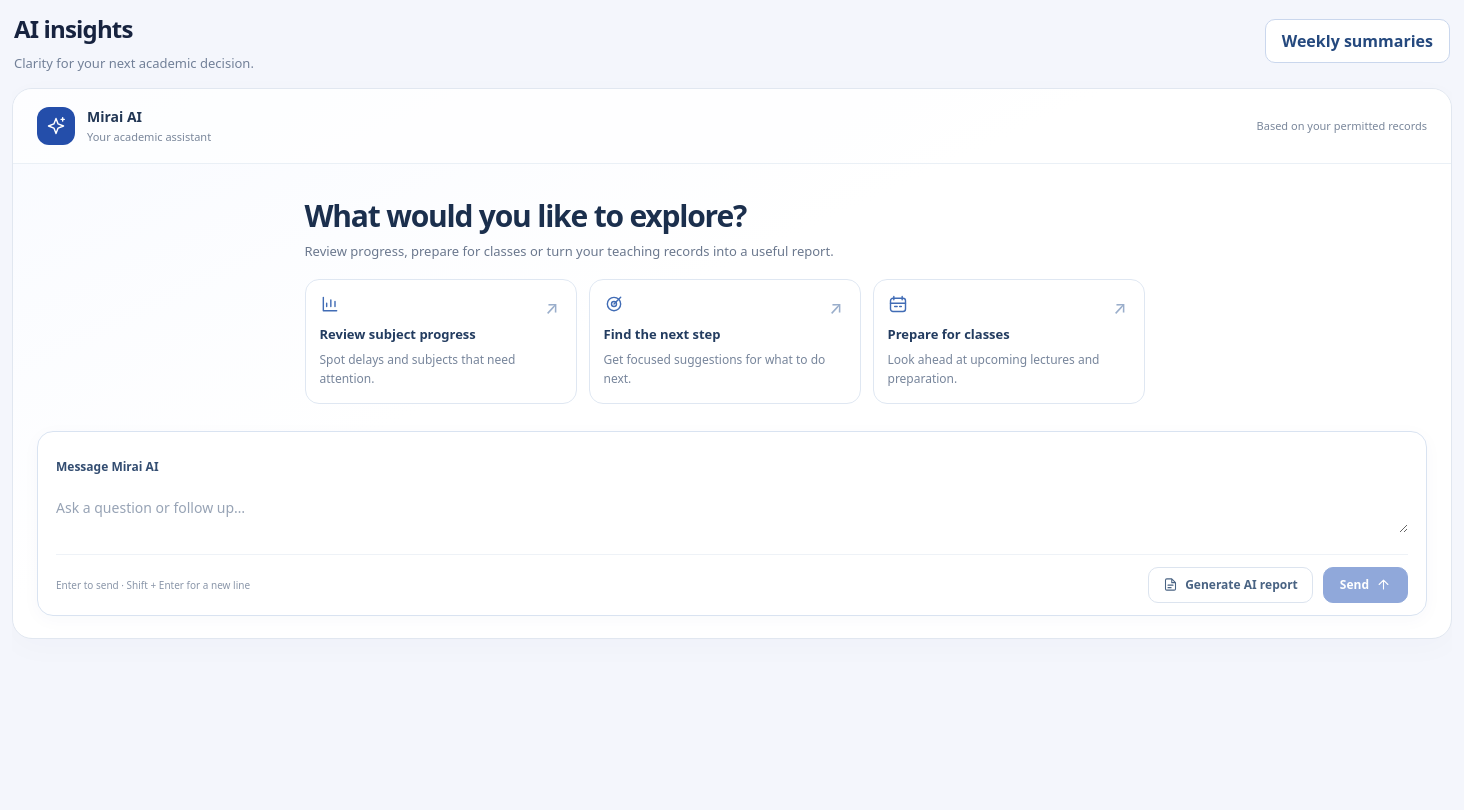
Test: keeps dashboard usable when report generation fails
Expected: the heading "What would you like to explore?" is shown, 304,195 -> 746,236
Click the button "Generate AI report" at (1230, 585), box 1148,567 -> 1313,603
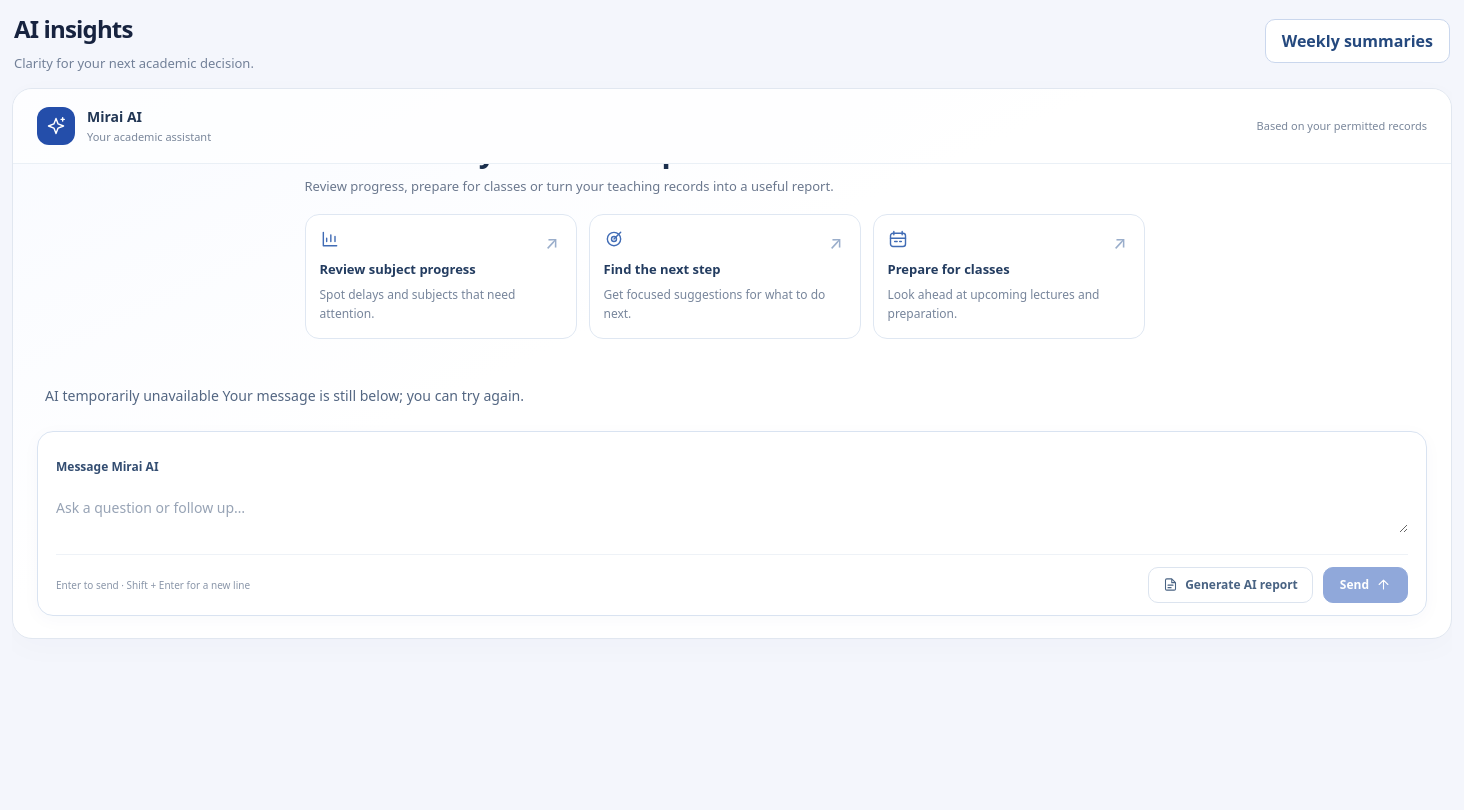
Expected: the text box labelled "Message Mirai AI" is enabled, 56,489 -> 1408,533
Now the message "AI temporarily unavailable Your message is still below; you can try again." is shown, box 45,386 -> 524,405
